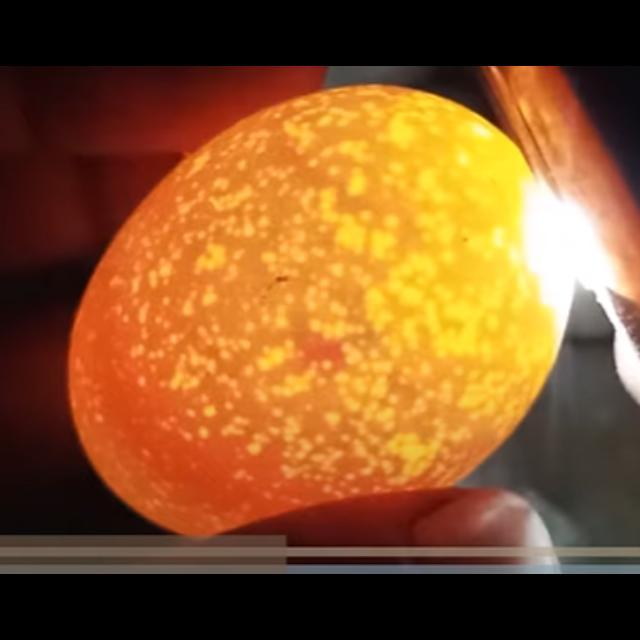Fertile: (60, 80, 586, 544)
